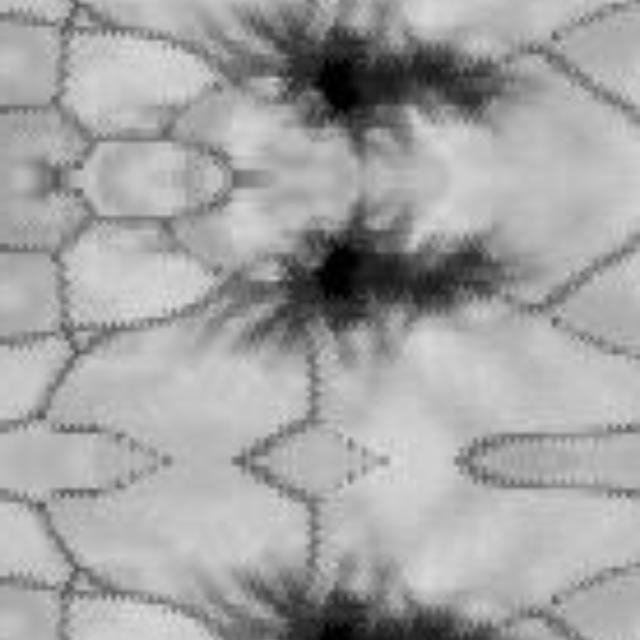good_void: (211, 188, 518, 370), (211, 0, 518, 168), (211, 552, 518, 640)
